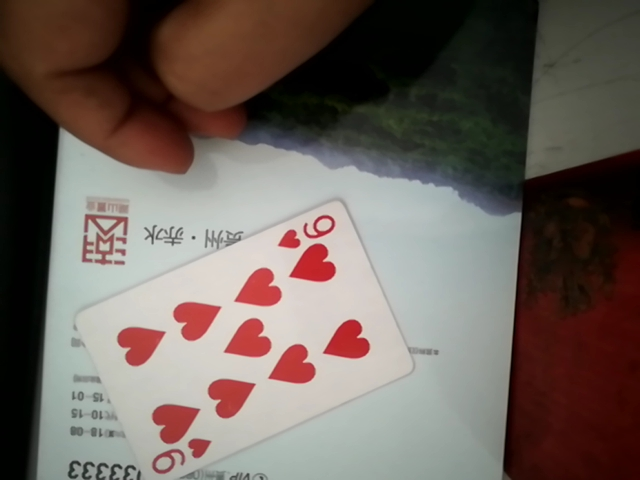hx 9: (80, 189, 415, 477)
